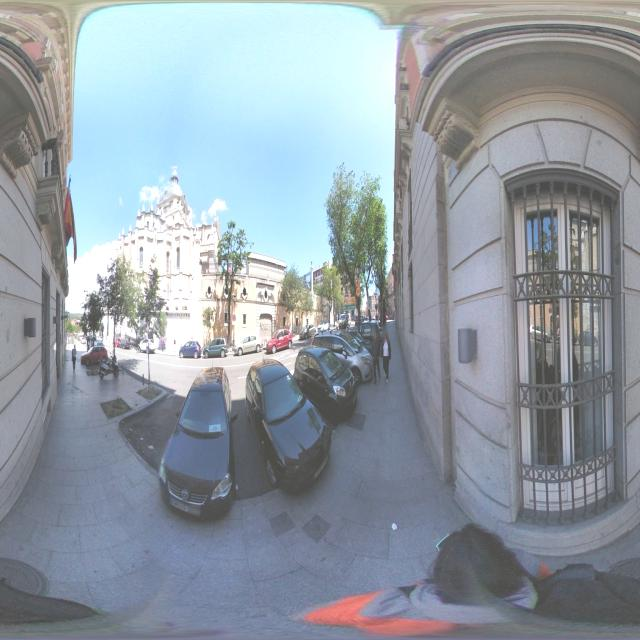car: (293, 347, 359, 416), (322, 334, 374, 384), (80, 340, 119, 377), (236, 333, 264, 355), (203, 337, 227, 359), (179, 340, 203, 359), (275, 328, 293, 351), (139, 332, 157, 354), (263, 336, 277, 353)
